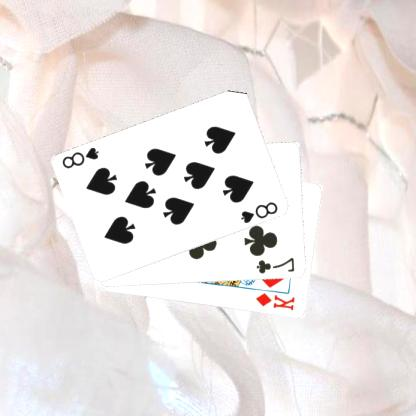7C: (256, 255, 298, 275)
8S: (61, 144, 103, 170), (240, 199, 281, 225)
KD: (254, 290, 298, 312)
